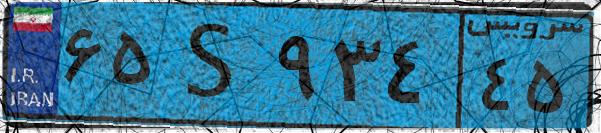3: (330, 28, 385, 110)
4: (385, 28, 445, 110), (475, 38, 525, 113)
5: (525, 38, 570, 115), (110, 28, 158, 98)
6: (57, 26, 110, 100)
9: (270, 28, 330, 110)
S: (158, 12, 270, 120)
